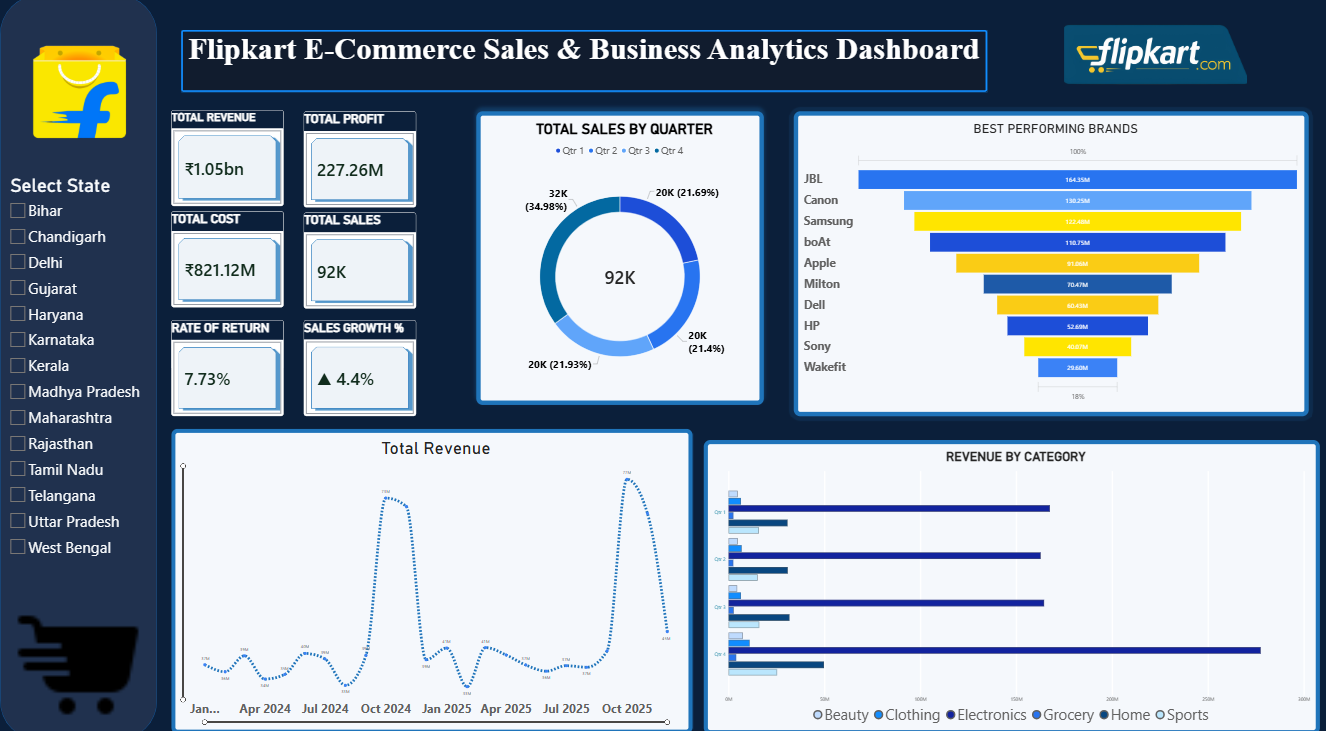

What the dashboard file says about the page in this screenshot:
{"tool":"powerbi","page":{"name":"Page 1","canvas":[3840,2160],"ordinal":0},"visuals":[{"type":"shape","box":[524.8,101.3,2334.5,181],"z":0},{"type":"image","box":[2902.7,45.4,886.5,249.7],"z":1000},{"type":"shape","box":[0,0,454.7,2157.5],"z":2000},{"type":"image","box":[0,0,456,561],"z":3000},{"type":"donutChart","title":"TOTAL SALES BY QUARTER","fields":{"Category":["ORDERS F L data.Year Month.Variation.Date Hierarchy.Quarter"],"Y":["CUSTOMERS F L data.TOTAL SALES"]},"box":[1379,336.6,832.4,850.5],"z":4000},{"type":"funnel","title":"BEST PERFORMING BRANDS","fields":{"Category":["PRODUCT F L data.Brand"],"Y":["ORDERS F L data.Total Revenue"]},"box":[2298.3,336.6,1491.2,883.1],"z":6000},{"type":"cardVisual","title":"TOTAL REVENUE","fields":{"Data":["ORDERS F L data.Revenue"]},"box":[495.8,333,325.7,278.7],"z":7000},{"type":"lineChart","title":"Total Revenue ","fields":{"Category":["ORDERS F L data.Year Month.Variation.Date Hierarchy.Year","ORDERS F L data.Year Month.Variation.Date Hierarchy.Month"],"Y":["ORDERS F L data.Total Revenue"]},"box":[495.8,1255.9,1509.3,883.1],"z":8000},{"type":"clusteredBarChart","title":"REVENUE BY CATEGORY","fields":{"Category":["ORDERS F L data.Year Month.Variation.Date Hierarchy.Quarter"],"Series":["PRODUCT F L data.Category"],"Y":["ORDERS F L data.Total Revenue"]},"box":[2037.7,1288.5,1783.9,851.7],"z":9000},{"type":"textbox","box":[525.9,100.2,2333.2,179.5],"z":10250},{"type":"slicer","fields":{"Values":["CUSTOMERS F L data.State"]},"box":[20.9,521.7,396.5,1202.1],"z":12000},{"type":"image","box":[37.6,1723.8,379.8,434.1],"z":13000},{"type":"cardVisual","title":"TOTAL COST","fields":{"Data":["CUSTOMERS F L data.Total Cost"]},"box":[495.8,626.1,325.7,278.7],"z":14000},{"type":"cardVisual","title":"TOTAL PROFIT","fields":{"Data":["CUSTOMERS F L data.Total Profit"]},"box":[879.5,336.6,325.7,278.7],"z":15000},{"type":"cardVisual","title":"TOTAL SALES","fields":{"Data":["CUSTOMERS F L data.TOTAL SALES"]},"box":[879.5,629.8,325.7,278.7],"z":16000},{"type":"cardVisual","title":"RATE OF RETURN","fields":{"Data":["ORDERS F L data.Return Rate %"]},"box":[495.8,941,325.7,278.7],"z":17000},{"type":"cardVisual","title":"SALES GROWTH %","fields":{"Data":["CUSTOMERS F L data.Sales Growth"]},"box":[879.5,941,325.7,278.7],"z":18000}]}

Visuals, with their boxes in screenshot pixels (x1, y1, x2, y2), scaled from the page's 3840x2160 canvas onto the 1326x731 screenshot:
shape: bbox=(181, 34, 987, 96)
image: bbox=(1002, 15, 1308, 100)
shape: bbox=(0, 0, 157, 730)
image: bbox=(0, 0, 157, 190)
"TOTAL SALES BY QUARTER" donutChart: bbox=(476, 114, 764, 402)
"BEST PERFORMING BRANDS" funnel: bbox=(794, 114, 1309, 413)
"TOTAL REVENUE" cardVisual: bbox=(171, 113, 284, 207)
"Total Revenue " lineChart: bbox=(171, 425, 692, 724)
"REVENUE BY CATEGORY" clusteredBarChart: bbox=(704, 436, 1320, 724)
textbox: bbox=(182, 34, 987, 95)
slicer - CUSTOMERS F L data.State: bbox=(7, 177, 144, 583)
image: bbox=(13, 583, 144, 730)
"TOTAL COST" cardVisual: bbox=(171, 212, 284, 306)
"TOTAL PROFIT" cardVisual: bbox=(304, 114, 416, 208)
"TOTAL SALES" cardVisual: bbox=(304, 213, 416, 307)
"RATE OF RETURN" cardVisual: bbox=(171, 318, 284, 413)
"SALES GROWTH %" cardVisual: bbox=(304, 318, 416, 413)
